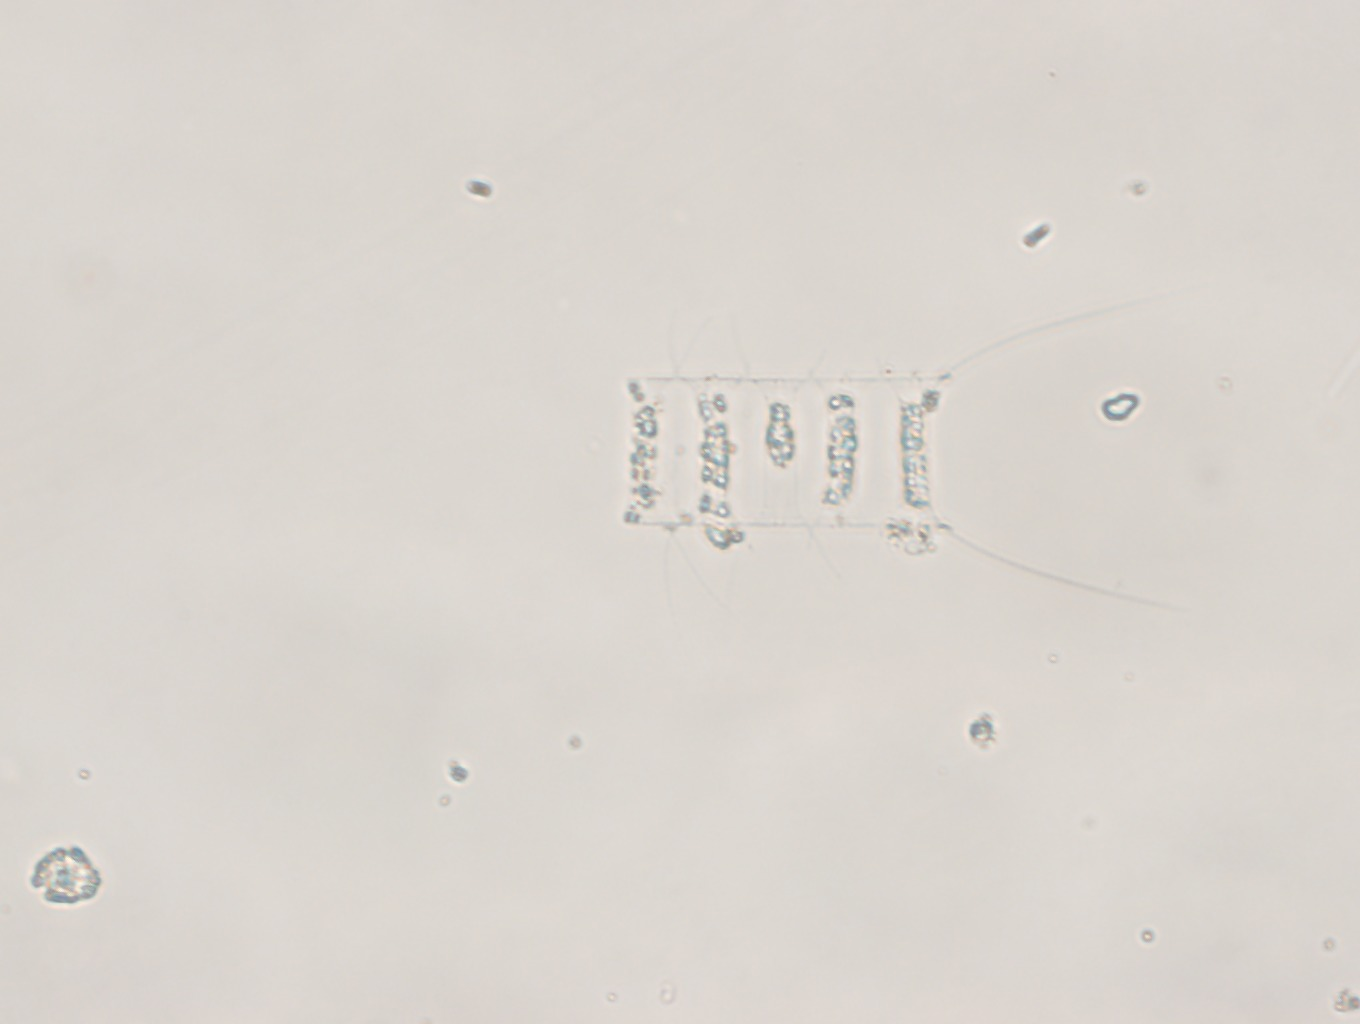chaetoceros: (590, 305, 1196, 618)
